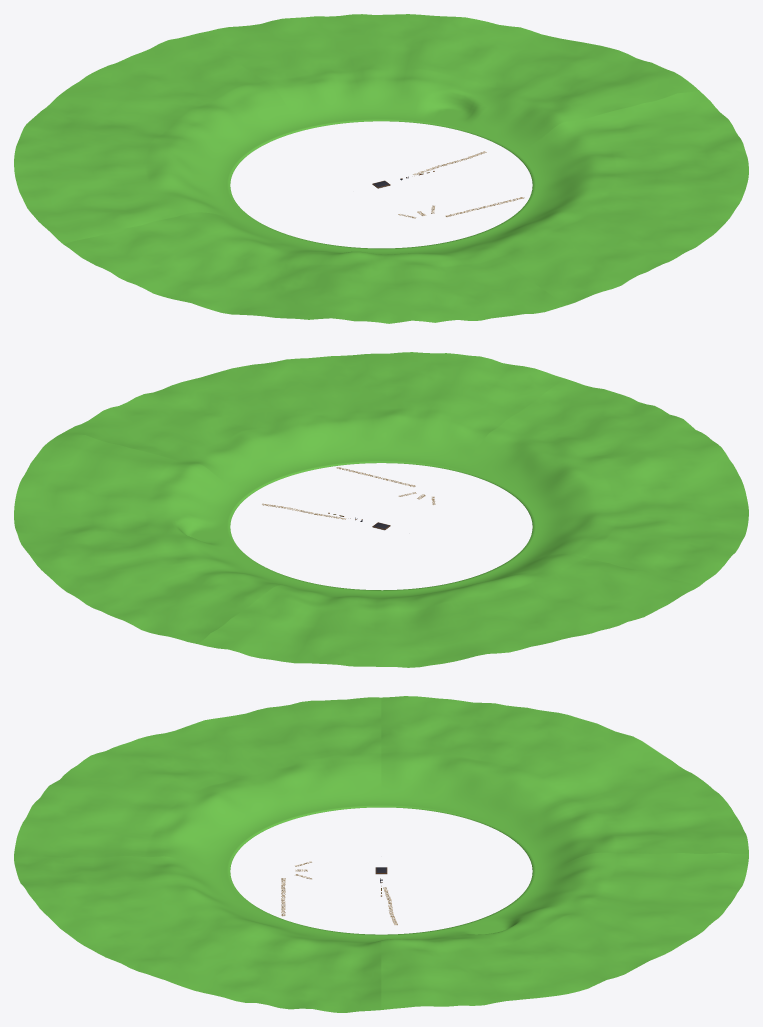
File: MapKit3.fbx
3 renders of one model, top to bottom at view 1: azimuth 30°, elevation 25°; view 2: azimuth 150°, elevation 25°; view 3: azimuth 270°, elevation 25°, orthographic.
Parts seen in each view (by area): view 1: World_Hills1_Grass.001, World_Hills0_Grass.001, World_Hills2_Grass.001, World_Hills3_Grass.001; view 2: World_Hills2_Grass.001, World_Hills3_Grass.001, World_Hills1_Grass.001, World_Hills0_Grass.001; view 3: World_Hills0_Grass.001, World_Hills3_Grass.001, World_Hills1_Grass.001, World_Hills2_Grass.001.
Boxes of the visible parts, left/top/right/bottom form: World_Hills1_Grass.001: left=198, top=14, right=699, bottom=152; World_Hills0_Grass.001: left=14, top=33, right=305, bottom=244; World_Hills2_Grass.001: left=457, top=91, right=748, bottom=305; World_Hills3_Grass.001: left=63, top=212, right=564, bottom=323; World_Hills2_Grass.001: left=64, top=352, right=564, bottom=494; World_Hills3_Grass.001: left=457, top=378, right=748, bottom=585; World_Hills1_Grass.001: left=14, top=432, right=305, bottom=643; World_Hills0_Grass.001: left=198, top=554, right=699, bottom=667; World_Hills0_Grass.001: left=381, top=696, right=748, bottom=870; World_Hills3_Grass.001: left=14, top=697, right=381, bottom=870; World_Hills1_Grass.001: left=381, top=852, right=748, bottom=1009; World_Hills2_Grass.001: left=14, top=856, right=381, bottom=1012.
Size of the model in its own units: 2248 by 77.38 by 2248.
